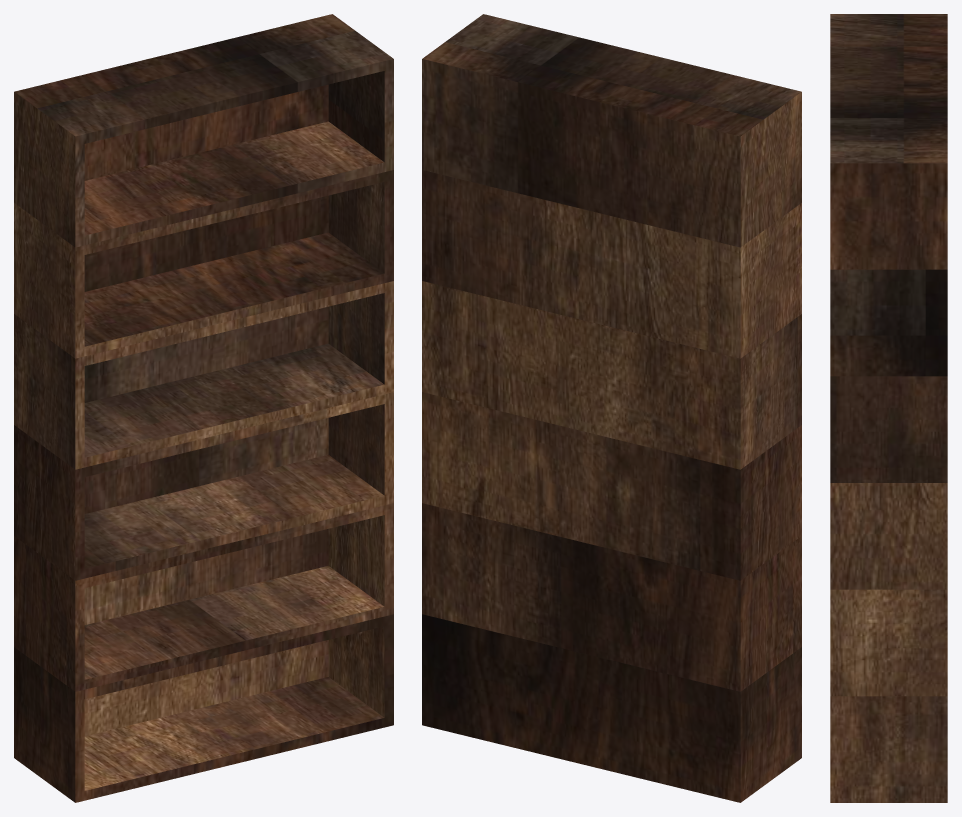
The model's file is bookshelf_1.fbx.
3 renders of one model, left to right at view 1: azimuth 30°, elevation 25°; view 2: azimuth 150°, elevation 25°; view 3: azimuth 270°, elevation 25°, orthographic. The views are drawn at different scales.
Visible parts, largest first — view 1: Cube; view 2: Cube; view 3: Cube.
Boxes of the visible parts, x1,y1,x2,y2 form: Cube: [14, 14, 393, 802]; Cube: [422, 14, 801, 802]; Cube: [830, 14, 947, 802].
Bounding box in the file's own units: 95.22 × 190 × 31.74.
Materials: 1 (1 with a texture image).
